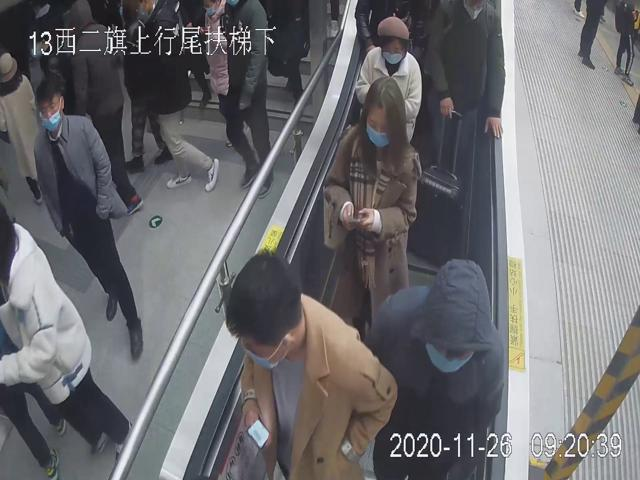person: (224, 250, 398, 480), (32, 70, 145, 362), (364, 255, 506, 480), (322, 73, 420, 340), (353, 9, 422, 144)
